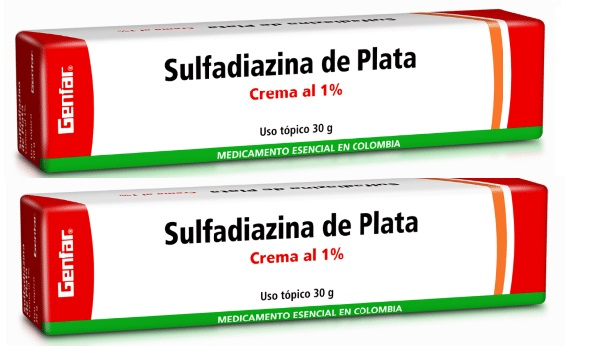Genfar: (45, 19, 548, 170), (46, 192, 544, 335)
